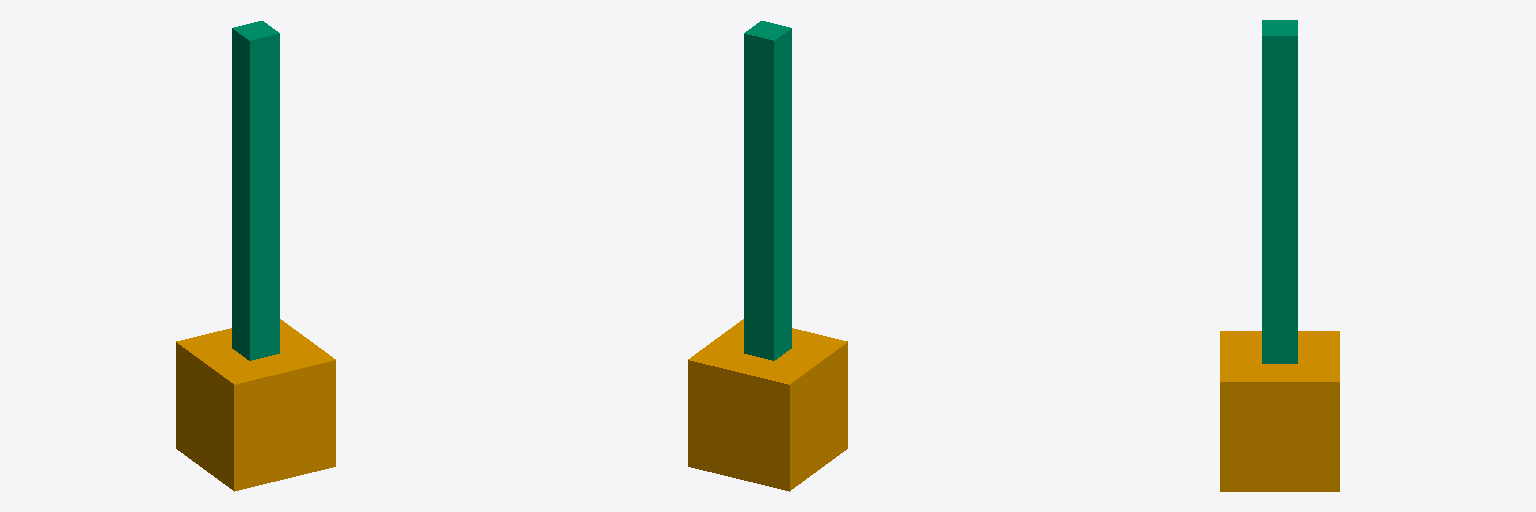
The robot description file, URDF, robot "ex_robot1":
<?xml version="1.0"?>
<!--
  ex_robot1 : 1-DoF revolute-joint manipulator

  Robot structure:
    world (fixed) - base_link (1x1x1 box, 12 kg)
                      +- joint1 (continuous, y-axis) - link1 (0.3x0.3x3, 3 kg)
-->
<robot name="ex_robot1">

    <!-- ================================================================ -->
    <!-- base_link                                                        -->
    <!--   The base of the manipulator, fixed to the world.               -->
    <!--   <visual>    : what you see in RViz / Gazebo                    -->
    <!--   <collision> : shape used for physics collision detection       -->
    <!--   <inertial>  : mass and rotational inertia for dynamics         -->
    <!--     * Gazebo silently removes any link without <inertial>.       -->
    <!--     * Solid-box formula: Ixx = (1/12)*m*(b^2 + c^2), etc.       -->
    <!-- ================================================================ -->
    <link name="base_link">
        <visual>
            <origin xyz="0 0 0" rpy="0 0 0"/>
            <geometry>
                <box size="1 1 1"/>
            </geometry>
        </visual>
        <collision>
            <origin xyz="0 0 0" rpy="0 0 0"/>
            <geometry>
                <box size="1 1 1"/>
            </geometry>
        </collision>
        <inertial>
            <origin xyz="0 0 0" rpy="0 0 0"/>
            <mass value="12"/>
            <!-- 1x1x1 box, 12 kg : ixx=iyy=izz = (1/12)*12*(1^2 + 1^2) = 2.0 -->
            <inertia ixx="2.0" ixy="0.0" ixz="0.0"
                     iyy="2.0" iyz="0.0"
                     izz="2.0"/>
        </inertial>
    </link>

    <!-- ================================================================ -->
    <!-- world link + fixed joint                                         -->
    <!--   "world" is an empty link that serves as the URDF root frame.   -->
    <!--   The fixed joint lifts base_link 0.5 m above the ground so     -->
    <!--   that the bottom of the 1 m tall box sits on z = 0.             -->
    <!-- ================================================================ -->
    <link name="world"/>

    <joint name="fixed" type="fixed">
        <origin xyz="0 0 0.5" rpy="0 0 0"/>
        <parent link="world"/>
        <child link="base_link"/>
    </joint>

    <!-- ================================================================ -->
    <!-- joint1 (continuous) + link1                                      -->
    <!--   joint1 sits on top of base_link (z = 0.5 from base center).   -->
    <!--   "continuous" = unlimited rotation (no joint limits).           -->
    <!--   axis y = rotation around the y-axis.                          -->
    <!--   damping = viscous friction coefficient (Nm*s/rad).            -->
    <!--                                                                  -->
    <!--   link1 visual/collision origin z = 1.5 so that the 3 m tall    -->
    <!--   box is centered along its own length above the joint.         -->
    <!-- ================================================================ -->
    <joint name="joint1" type="continuous">
        <parent link="base_link"/>
        <child link="link1"/>
        <origin xyz="0 0 0.5" rpy="0 0 0"/>
        <axis xyz="0 1 0"/>
        <dynamics damping="0.7"/>
    </joint>

    <link name="link1">
        <visual>
            <origin xyz="0 0 1.5" rpy="0 0 0"/>
            <geometry>
                <box size="0.3 0.3 3"/>
            </geometry>
        </visual>
        <collision>
            <origin xyz="0 0 1.5" rpy="0 0 0"/>
            <geometry>
                <box size="0.3 0.3 3"/>
            </geometry>
        </collision>
        <inertial>
            <origin xyz="0 0 1.5" rpy="0 0 0"/>
            <mass value="3"/>
            <!-- 0.3x0.3x3 box, 3 kg -->
            <!-- ixx = iyy = (1/12)*3*(0.3^2 + 3^2)   = 2.2725 -->
            <!-- izz       = (1/12)*3*(0.3^2 + 0.3^2) = 0.045  -->
            <inertia ixx="2.2725" ixy="0.0" ixz="0.0"
                     iyy="2.2725" iyz="0.0"
                     izz="0.045"/>
        </inertial>
    </link>

    <!-- ================================================================ -->
    <!-- gazebo_ros_control plugin                                        -->
    <!--   This plugin bridges Gazebo's physics engine with the           -->
    <!--   ros_control framework. Without it, ros_control cannot          -->
    <!--   read joint states or apply effort (torque) to joints.          -->
    <!--                                                                  -->
    <!--   robotNamespace : all controller topics appear under            -->
    <!--     /ex_robot1/  (e.g. /ex_robot1/joint1_position_controller/)   -->
    <!--   robotSimType   : default hardware simulation interface that    -->
    <!--     reads position/velocity and writes effort per joint.         -->
    <!-- ================================================================ -->
    <gazebo>
        <plugin name="gazebo_ros_control" filename="libgazebo_ros_control.so">
            <robotNamespace>/ex_robot1</robotNamespace>
            <robotSimType>gazebo_ros_control/DefaultRobotHWSim</robotSimType>
        </plugin>
    </gazebo>

    <!-- ================================================================ -->
    <!-- transmission tran1 : motor1 -> joint1                            -->
    <!--   Defines how an actuator (motor) drives a joint.                -->
    <!--   SimpleTransmission = one motor drives one joint (1:1).         -->
    <!--   EffortJointInterface = the PID controller outputs torque.      -->
    <!--   mechanicalReduction = gear ratio (1 = direct drive).           -->
    <!-- ================================================================ -->
    <transmission name="tran1">
        <type>transmission_interface/SimpleTransmission</type>
        <joint name="joint1">
            <hardwareInterface>hardware_interface/EffortJointInterface</hardwareInterface>
        </joint>
        <actuator name="motor1">
            <hardwareInterface>hardware_interface/EffortJointInterface</hardwareInterface>
            <mechanicalReduction>1</mechanicalReduction>
        </actuator>
    </transmission>

    <!-- ================================================================ -->
    <!-- In-Class Assignment : extend to 2-DoF                            -->
    <!--                                                                  -->
    <!-- Hints:                                                           -->
    <!--   1. Add joint2 (continuous, y-axis) + link2 below link1.        -->
    <!--      - joint2 parent = link1, child = link2                      -->
    <!--      - joint2 origin: top of link1 (think about link1's height)  -->
    <!--      - link2 can reuse the same geometry and inertia as link1.   -->
    <!--                                                                  -->
    <!--   2. Add transmission tran2 for joint2.                          -->
    <!--      - Same structure as tran1, with renamed joint and motor.    -->
    <!--                                                                  -->
    <!--   3. Update ex_robot1_control.yaml :                             -->
    <!--      - Add joint2_position_controller (same PID structure).      -->
    <!--                                                                  -->
    <!--   4. Update ex_robot1_control.launch :                           -->
    <!--      - Add joint2_position_controller to the spawner args.       -->
    <!-- ================================================================ -->

</robot>

--- Facts derived from the render (not from the file) ---
Views: 3 orthographic renders of the robot side by side, from view 1: azimuth 30°, elevation 25°; view 2: azimuth 150°, elevation 25°; view 3: azimuth 270°, elevation 25°.
Model ex_robot1 with 3 links and 2 joints (1 continuous, 1 fixed), rooted at world, posed every joint at zero.
Visible links, largest first — view 1: base_link, link1; view 2: base_link, link1; view 3: base_link, link1.
Boxes of the visible links, <box> form: base_link: <box>176,319,335,491</box>; link1: <box>232,21,279,360</box>; base_link: <box>688,319,847,491</box>; link1: <box>744,21,791,360</box>; base_link: <box>1220,331,1339,491</box>; link1: <box>1262,20,1297,363</box>.
Size in the robot's own frame: 1 by 1 by 4 metres.
Geometry: primitives only (box / cylinder / sphere), no mesh files.
